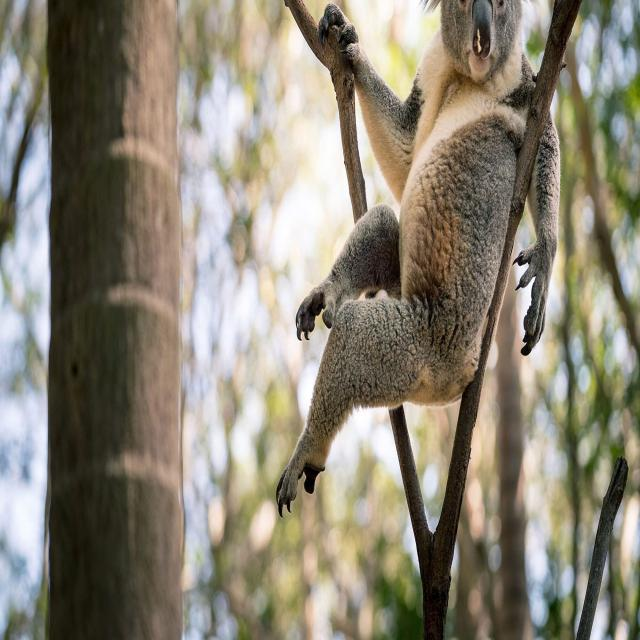Koala: (272, 0, 564, 519)
